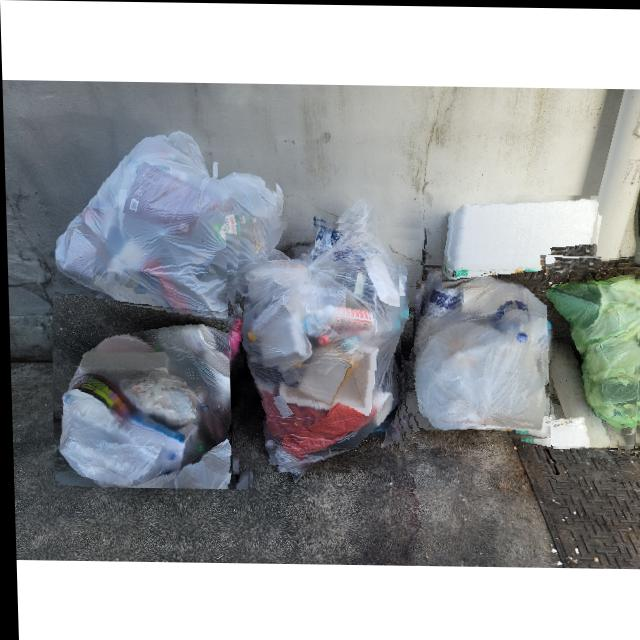general_trashbag: (545, 256, 640, 447)
other_trashbag: (51, 111, 275, 367), (228, 215, 422, 472), (51, 297, 248, 489), (401, 265, 577, 439), (439, 193, 596, 288)
